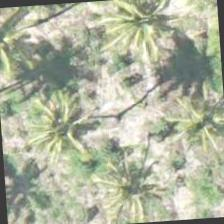Kelapa_Sawit: (11, 77, 107, 174), (93, 135, 191, 223), (88, 0, 183, 66), (161, 77, 223, 173)
